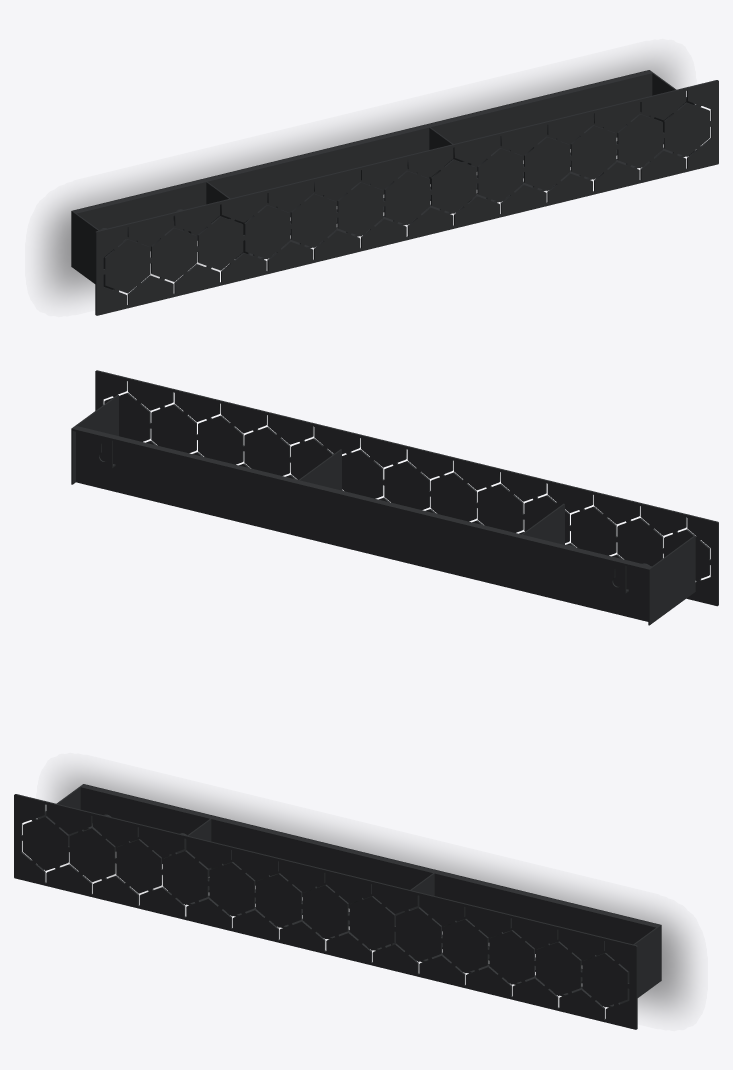
The model's file is bee-patron.2ae525504c.ar.glb.
3 views of the same model, one above another, from view 1: azimuth 30°, elevation 25°; view 2: azimuth 150°, elevation 25°; view 3: azimuth 330°, elevation 25° (orthographic).
Parts seen in each view (by area): view 1: NAUO1, object 2; view 2: NAUO1; view 3: NAUO1, object 2.
Part boxes in pixels (left/top/right/bottom): NAUO1: left=71, top=70, right=718, bottom=315; object 2: left=42, top=59, right=678, bottom=296; NAUO1: left=71, top=370, right=718, bottom=625; NAUO1: left=14, top=784, right=661, bottom=1029; object 2: left=54, top=773, right=690, bottom=1010.
Size of the model in its own units: 0.78 by 0.17 by 0.092.
Materials: 2 (1 with a texture image).
